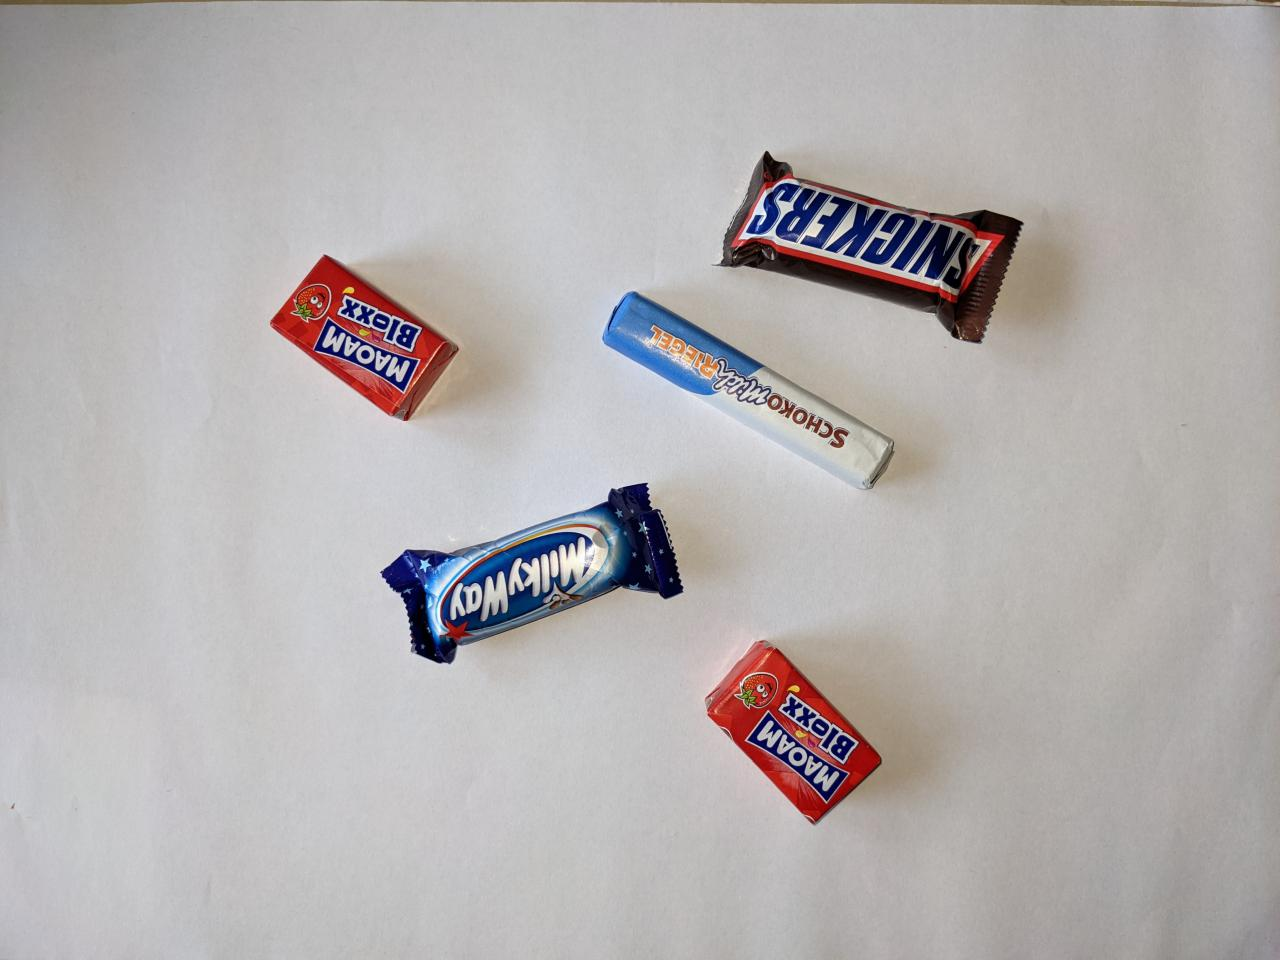MAOAM: (699, 633, 892, 835), (263, 249, 469, 432)
MilkyWay: (375, 476, 692, 669)
Schokoriegel: (594, 287, 905, 501)
Snickers: (703, 145, 1035, 355)
